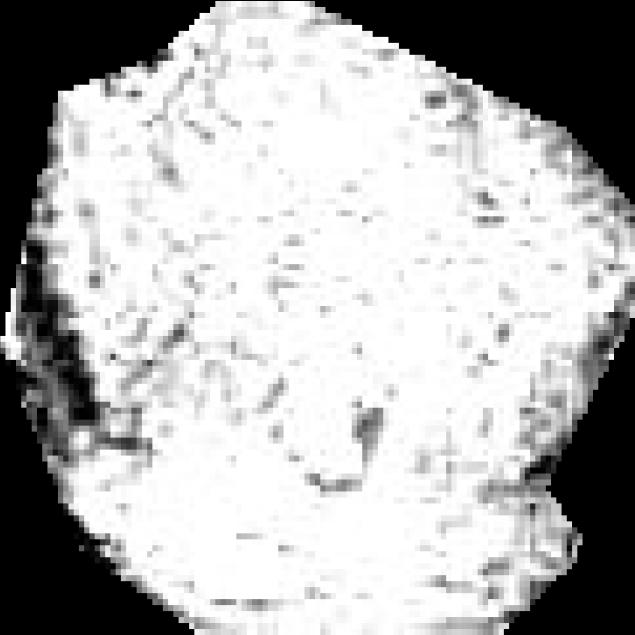tumor_good_chance: (0, 1, 635, 635)
